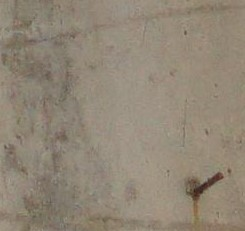Exposed reinforcement: (191, 171, 225, 201)
